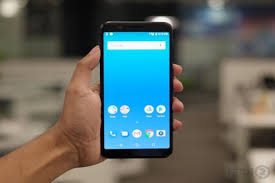asus: (96, 18, 173, 161)
